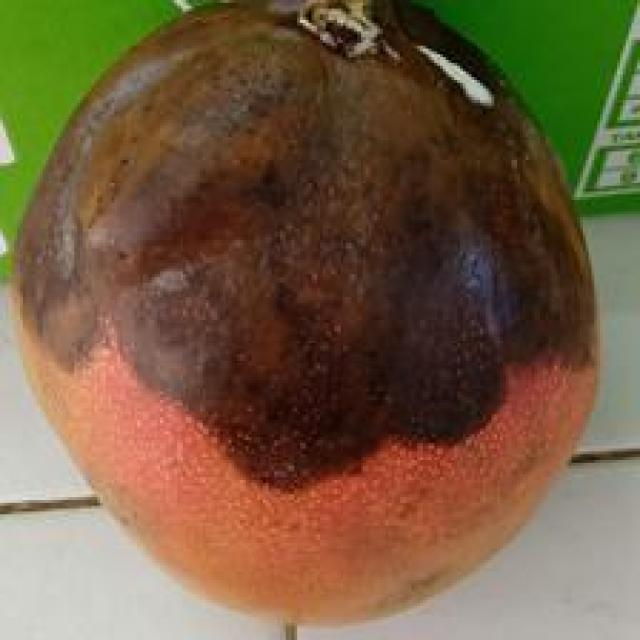Bad_Mango: (15, 0, 595, 622)
